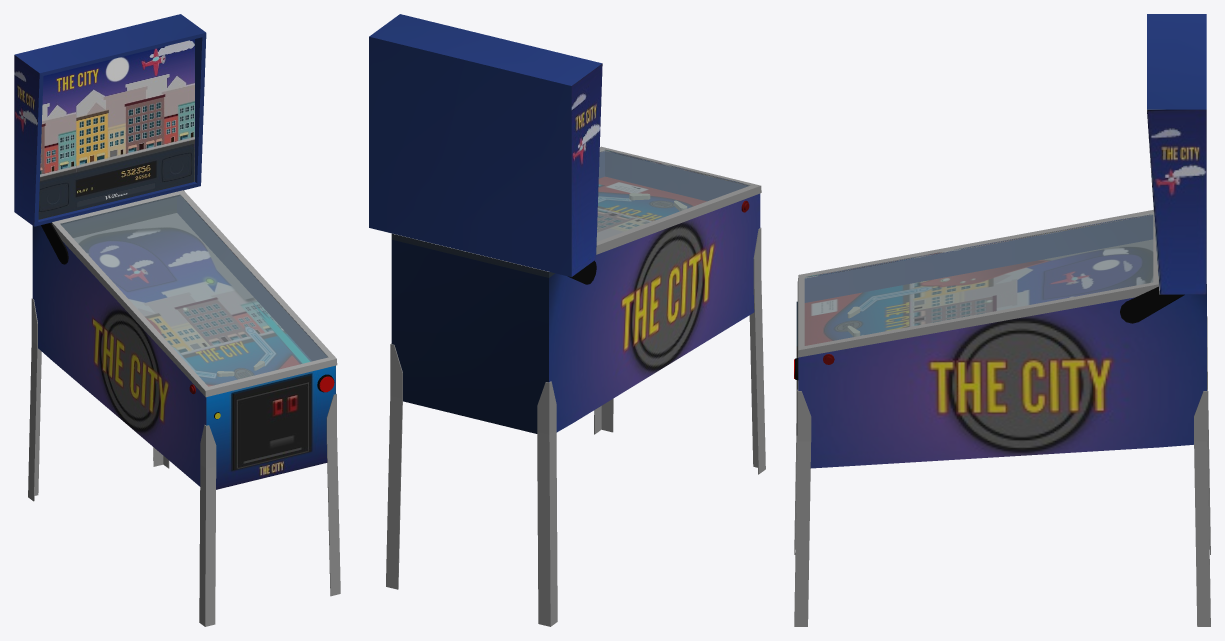
Rendered from flipper.obj.
The picture shows the model from 3 angles, left to right: view 1: azimuth 30°, elevation 25°; view 2: azimuth 150°, elevation 25°; view 3: azimuth 270°, elevation 25°; orthographic projection. The views are drawn at different scales.
Parts seen in each view (by area): view 1: Cube, Cube.001, Cube.003, Cube.002, Cube.005, Cube.004, Circle; view 2: Cube, Cube.001, Cube.002, Cube.003, Cube.004; view 3: Cube, Cube.003, Cube.001, Cube.002, Cube.004, Circle.
Boxes of the visible parts, left/top/right/bottom form: Cube: left=32, top=194, right=335, bottom=489; Cube.001: left=14, top=14, right=206, bottom=226; Cube.003: left=61, top=194, right=328, bottom=386; Cube.002: left=28, top=298, right=340, bottom=626; Cube.005: left=233, top=375, right=311, bottom=469; Cube.004: left=52, top=190, right=337, bottom=397; Circle: left=41, top=223, right=68, bottom=264; Cube: left=391, top=149, right=760, bottom=433; Cube.001: left=369, top=14, right=602, bottom=277; Cube.002: left=386, top=227, right=765, bottom=626; Cube.003: left=596, top=150, right=750, bottom=241; Cube.004: left=596, top=146, right=761, bottom=254; Cube: left=798, top=210, right=1206, bottom=468; Cube.003: left=804, top=213, right=1153, bottom=345; Cube.001: left=1147, top=14, right=1206, bottom=294; Cube.002: left=794, top=316, right=1210, bottom=626; Cube.004: left=797, top=210, right=1158, bottom=357; Circle: left=1120, top=286, right=1184, bottom=323.
Size of the model in its own units: 72 by 185 by 133.
